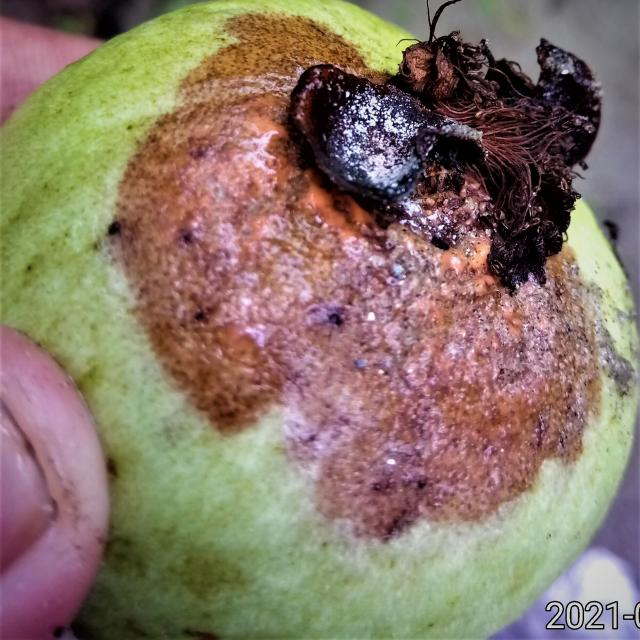Styler and Root: (0, 3, 638, 637)
